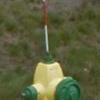Hydrant: (15, 35, 84, 100)
